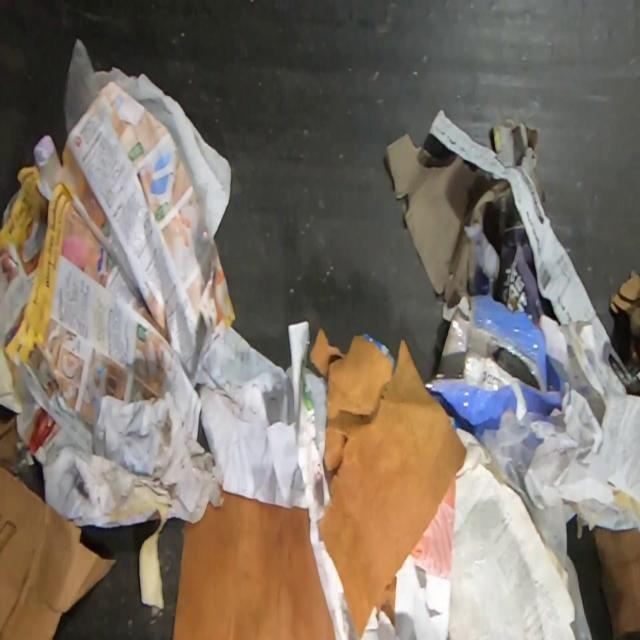cardboard: (316, 340, 467, 640), (0, 418, 116, 640), (172, 485, 336, 640), (385, 132, 511, 306), (309, 327, 395, 473), (593, 524, 640, 640), (491, 118, 547, 212), (608, 269, 640, 368)
soft_plastic: (423, 295, 566, 438), (62, 38, 102, 135)
